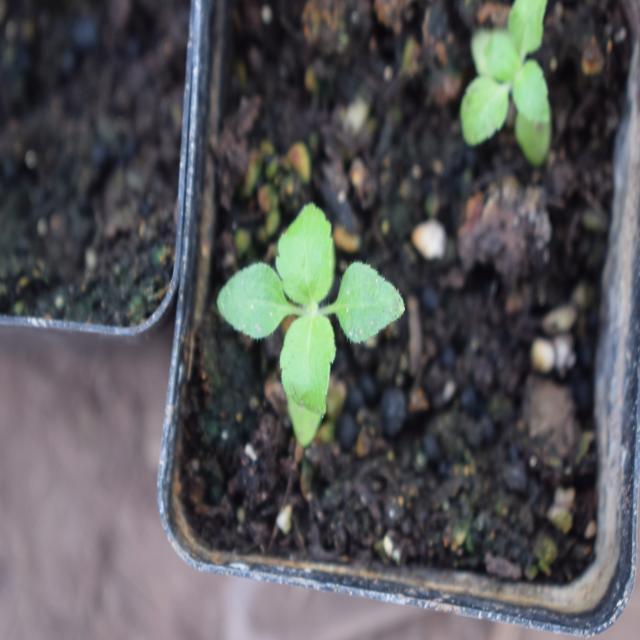billygoat_weed: (228, 192, 387, 448)
